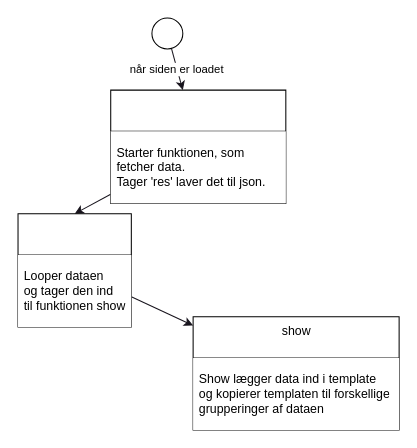
Some shapes in this 417 by 448 pixel diagram are drawn without their labels. Here are the shapes that lost their labels. From the top down, the box of each, then its label:
(110, 89, 286, 203): init
(17, 213, 131, 327): handleData
